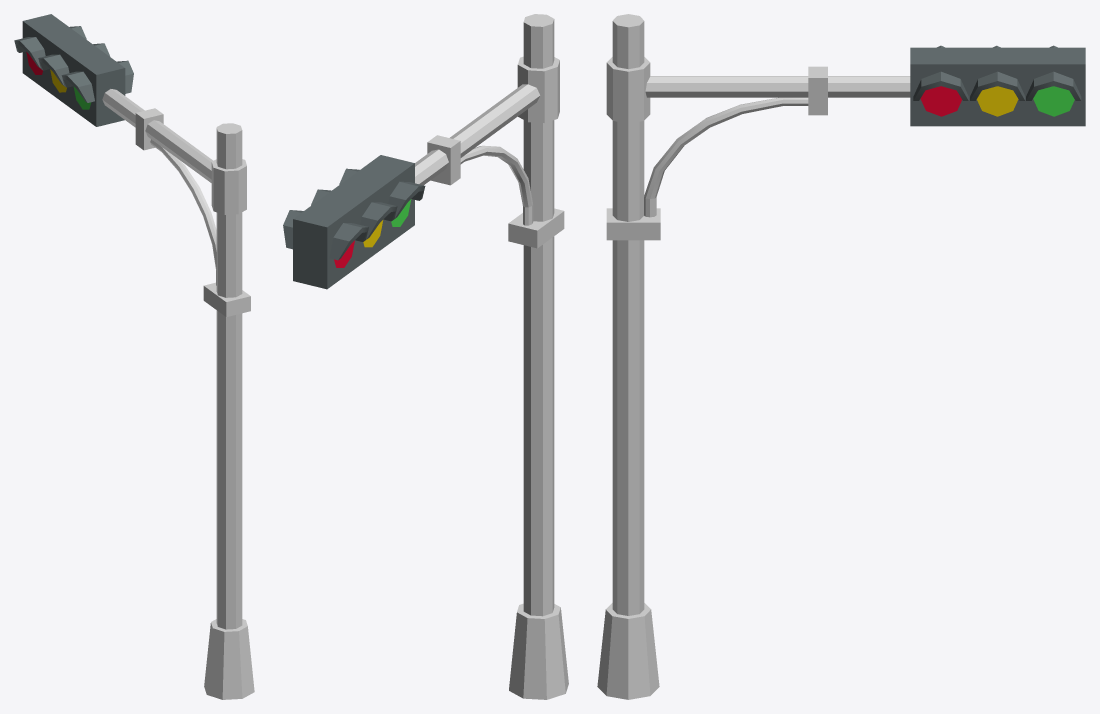
The model's file is Traffic_new.fbx.
3 views of the same model, side by side, from view 1: azimuth 30°, elevation 25°; view 2: azimuth 150°, elevation 25°; view 3: azimuth 270°, elevation 25° (orthographic). The views are drawn at different scales.
Parts seen in each view (by area): view 1: traffic; view 2: traffic; view 3: traffic, green_lig, yellow_lig, red_lig.
Boxes of the visible parts, left/top/right/bottom form: traffic: left=14, top=14, right=254, bottom=699; traffic: left=283, top=14, right=568, bottom=699; traffic: left=597, top=14, right=1085, bottom=699; green_lig: left=1033, top=86, right=1074, bottom=116; yellow_lig: left=976, top=86, right=1018, bottom=116; red_lig: left=920, top=86, right=961, bottom=116.
Size of the model in its own units: 88.62 by 776 by 515.
